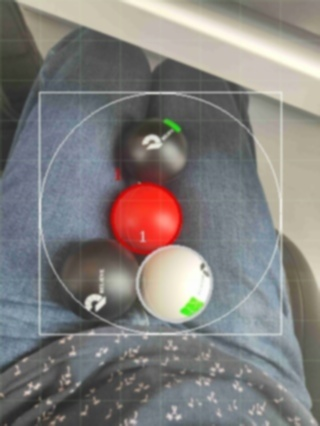Pelota blanca: (55, 238, 137, 320), (135, 244, 214, 325)
Pelota roja: (108, 180, 182, 254)
